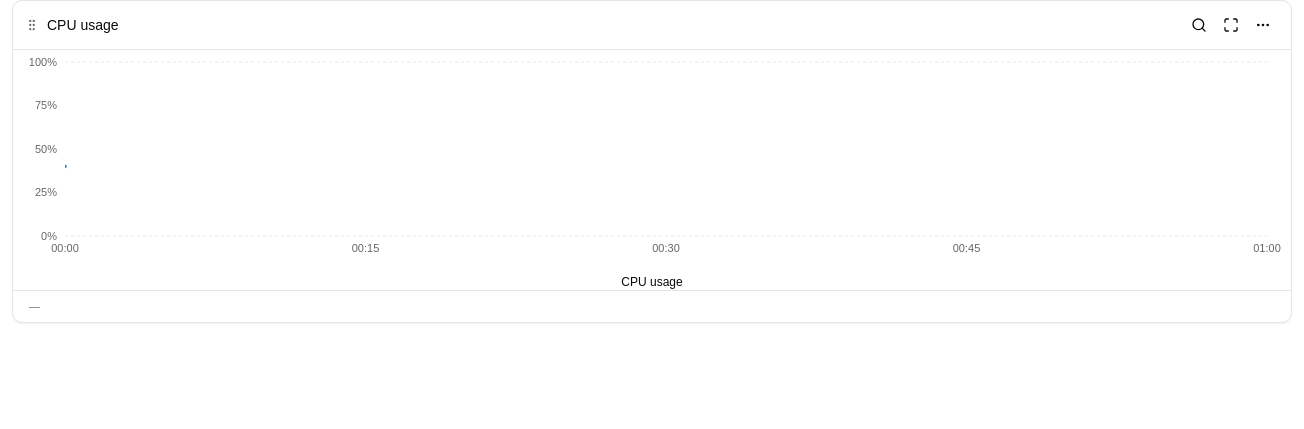
Test: workspace panel header › links to the prefilled alert rule page from the panel menu
Click the button named "Edit panel · CPU usage": click(1263, 25) 1247,9 -> 1279,41
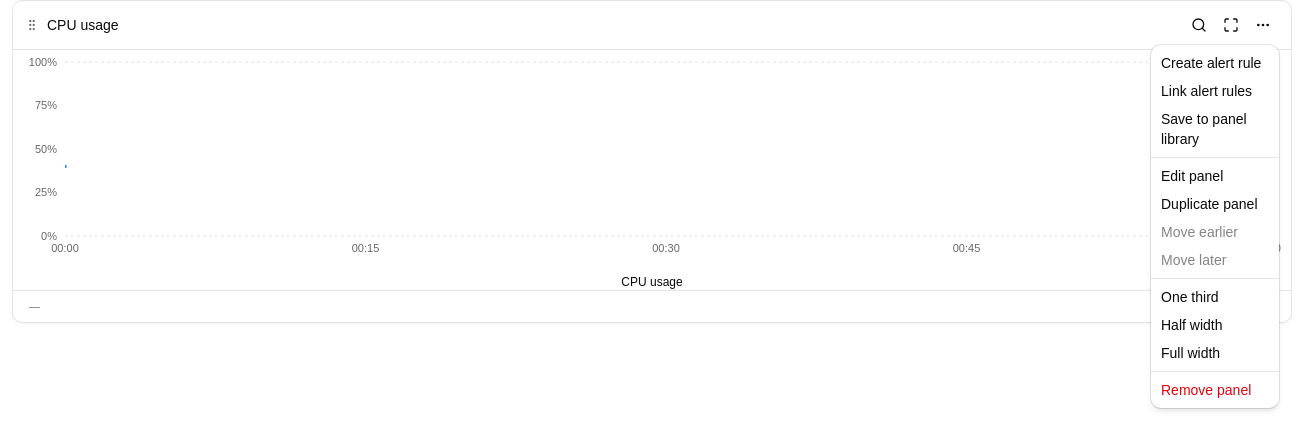
Expected: the menu item "Edit panel" is shown, 1161,168 -> 1223,184
